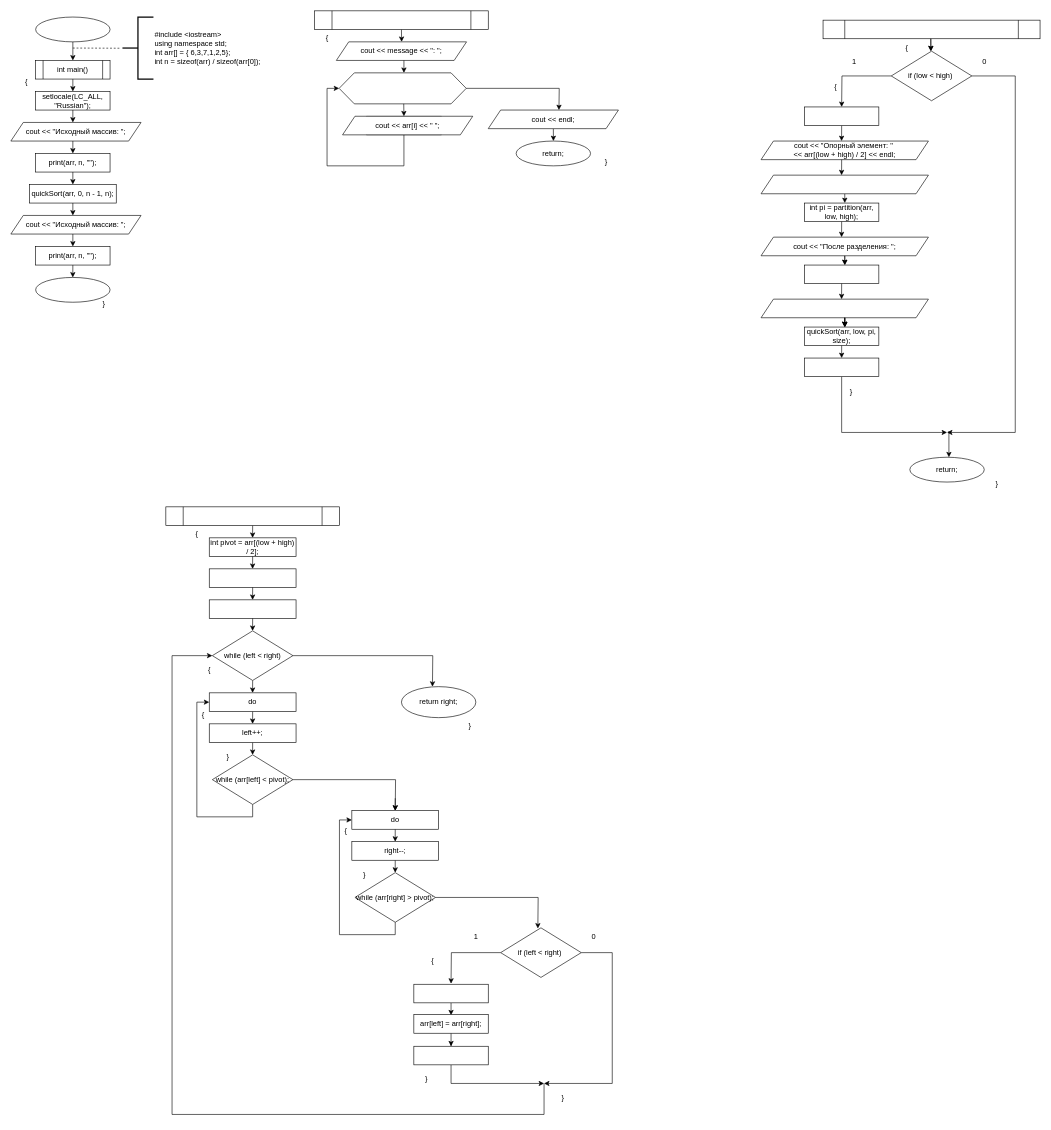
Image size: 1051x1130. Some labels were removed from this diagram. Each missing label, with the centre of its shape:
arr[right] = temp;: (x=450, y=1055)
cout << "----------------------------------------" << endl;: (x=844, y=308)
cout << "Диапазон: [" << low << ", " << high << "]" << endl;: (x=844, y=184)
for (int i = 0; i < size; i++): (x=402, y=88)
int left = low - 1;: (x=252, y=577)
int partition(int arr[], int low, int high): (x=252, y=515)
int right = high + 1;: (x=252, y=608)
int temp = arr[left];: (x=450, y=993)
print(arr, size, "");: (x=841, y=274)
print(arr, size, "Текущий массив");: (x=841, y=116)
quickSort(arr, pi + 1, high, size);: (x=841, y=367)
return 0;: (x=72, y=289)
void print(int arr[], int size, string message): (x=401, y=19)
void quickSort(int arr[], int low, int high, int size): (x=931, y=29)
Начало: (x=72, y=29)
